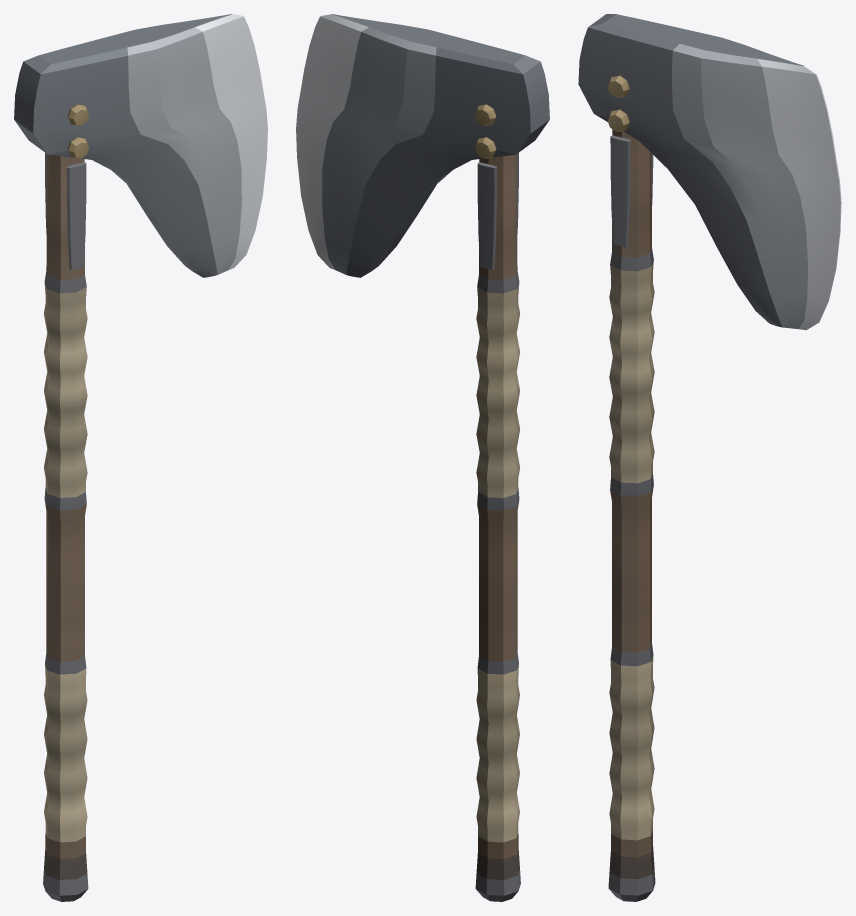
File: WPN_04_Greataxe_Ironjaw.fbx
3 renders of one model, left to right at view 1: azimuth 30°, elevation 25°; view 2: azimuth 150°, elevation 25°; view 3: azimuth 330°, elevation 25°, orthographic. The views are drawn at different scales.
Visible parts, largest first — view 1: EXP_WPN_04_Greataxe_Ironjaw; view 2: EXP_WPN_04_Greataxe_Ironjaw; view 3: EXP_WPN_04_Greataxe_Ironjaw.
Part boxes in pixels (x1,y1,x2,y2): EXP_WPN_04_Greataxe_Ironjaw: (14,14,267,901); EXP_WPN_04_Greataxe_Ironjaw: (296,14,549,901); EXP_WPN_04_Greataxe_Ironjaw: (578,14,841,901).
Bounding box in the file's own units: 125 × 410 × 28.
Materials: 1 (1 with a texture image).
